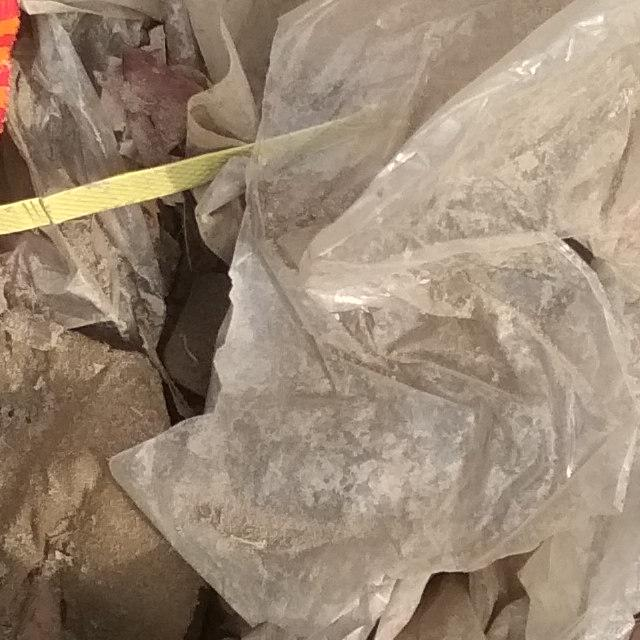plastic: (4, 0, 640, 251), (0, 480, 640, 640)
